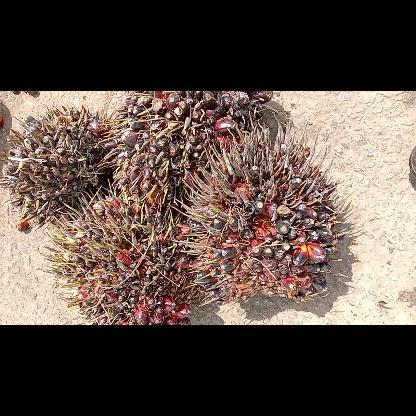TBS abnormal: (198, 135, 346, 314), (107, 90, 279, 208), (47, 196, 201, 322), (4, 108, 112, 220)
